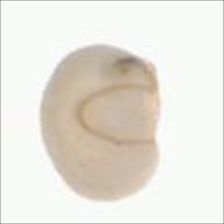L5: (72, 83, 159, 148), (36, 90, 57, 148)
L6: (36, 41, 165, 205)
